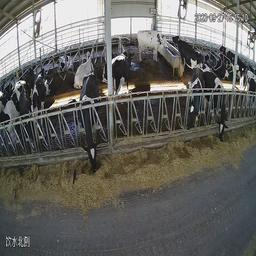cow: (78, 71, 103, 180), (203, 63, 228, 148), (1, 77, 23, 152), (135, 25, 171, 70), (16, 82, 35, 162), (111, 41, 134, 104), (186, 61, 203, 142), (30, 68, 51, 131), (174, 28, 202, 70), (74, 45, 96, 91), (220, 41, 241, 82), (55, 51, 72, 74)
